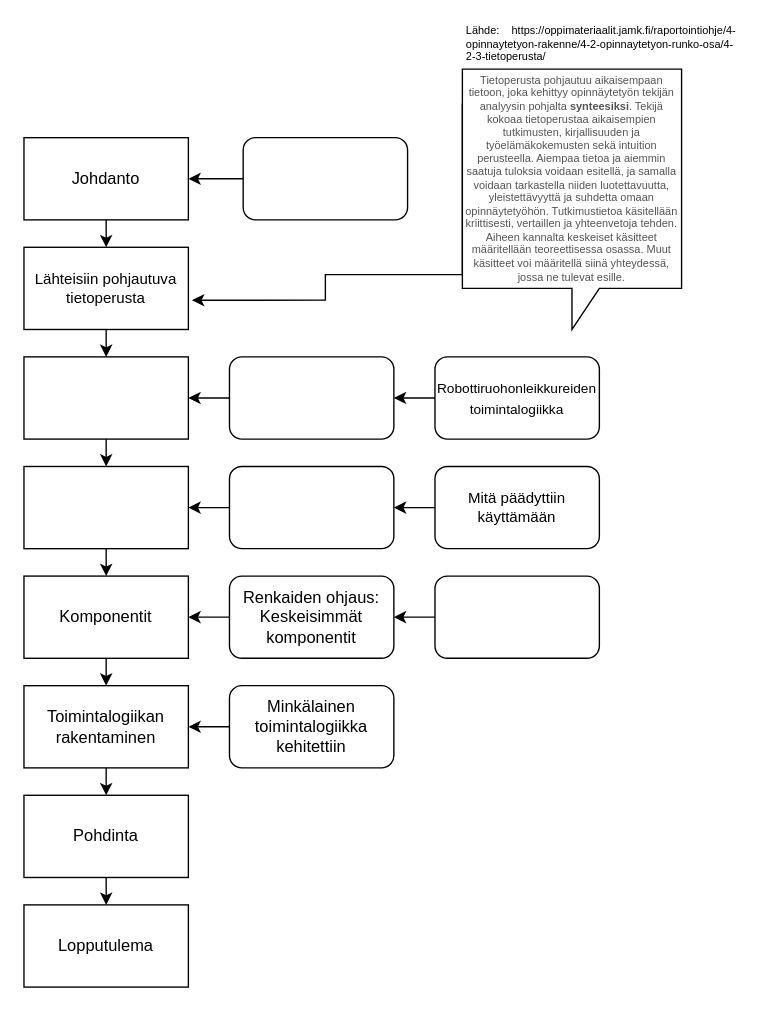
The diagram is 760 pixels wide and 1011 high, and some of its shapes have lost their labels. The shapes that lost their labels are listed below. From the top down, each one's box as (x1, y1, x2, y2) in pixels, then its label:
(242, 136, 408, 220): Tarve(?)
(23, 356, 188, 439): Aikaisempien kehitelmien toimintalogiikoiden tutkiminen
(228, 356, 394, 439): Robotti-imureiden toimintalogiikka
(23, 465, 188, 549): Tuotteen kuvaus
(228, 465, 394, 549): Toimeksiantajan toiveet robottia varten (lista githubissa)
(434, 575, 599, 658): Harjojen ohjaus: Keskeisimmät komponentit
